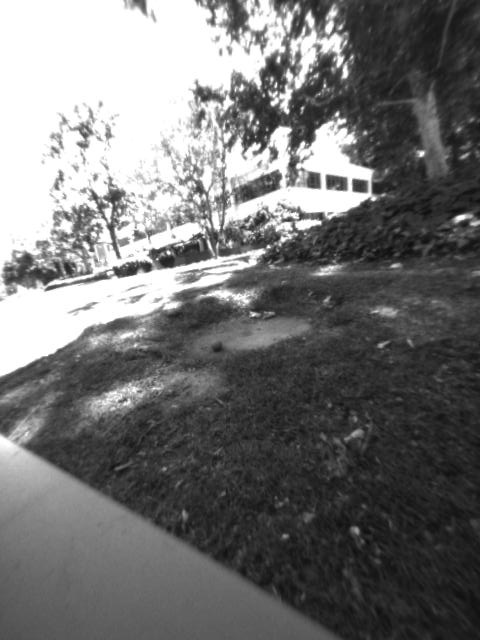dogtoy: (204, 330, 235, 363)
